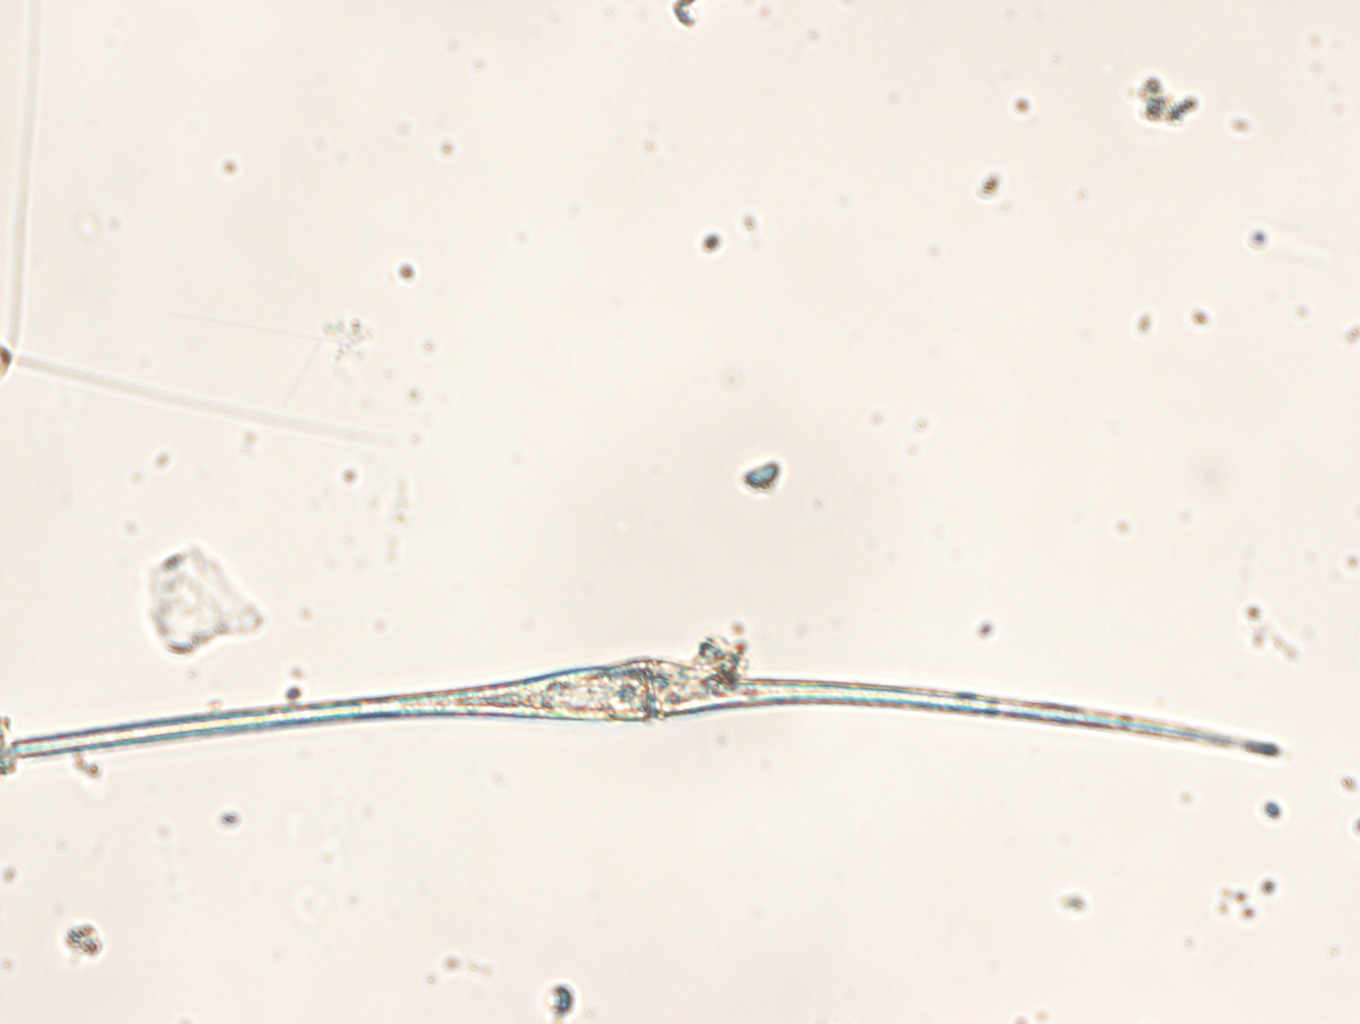ceratium fusus: (1, 656, 1280, 760)
